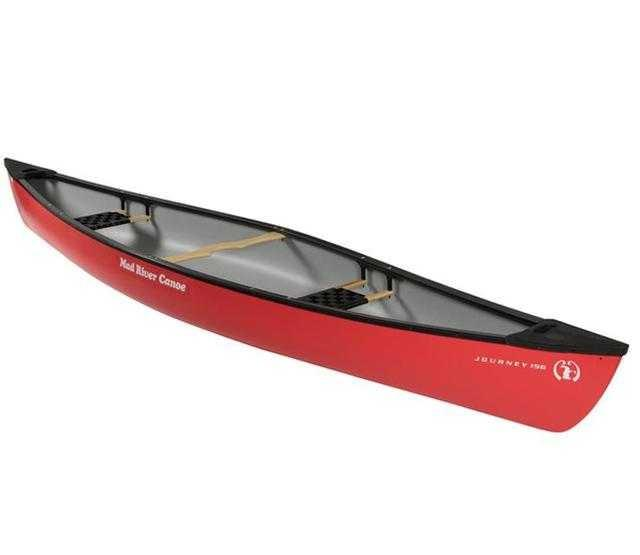kayak: (3, 163, 629, 432)
